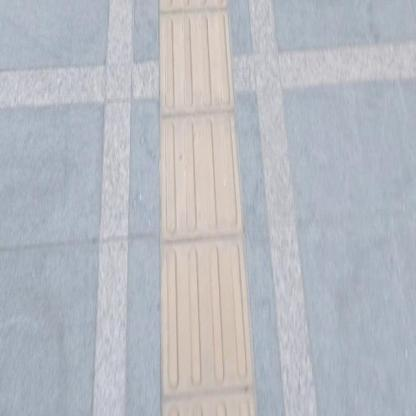podotacti: (158, 0, 261, 415)
